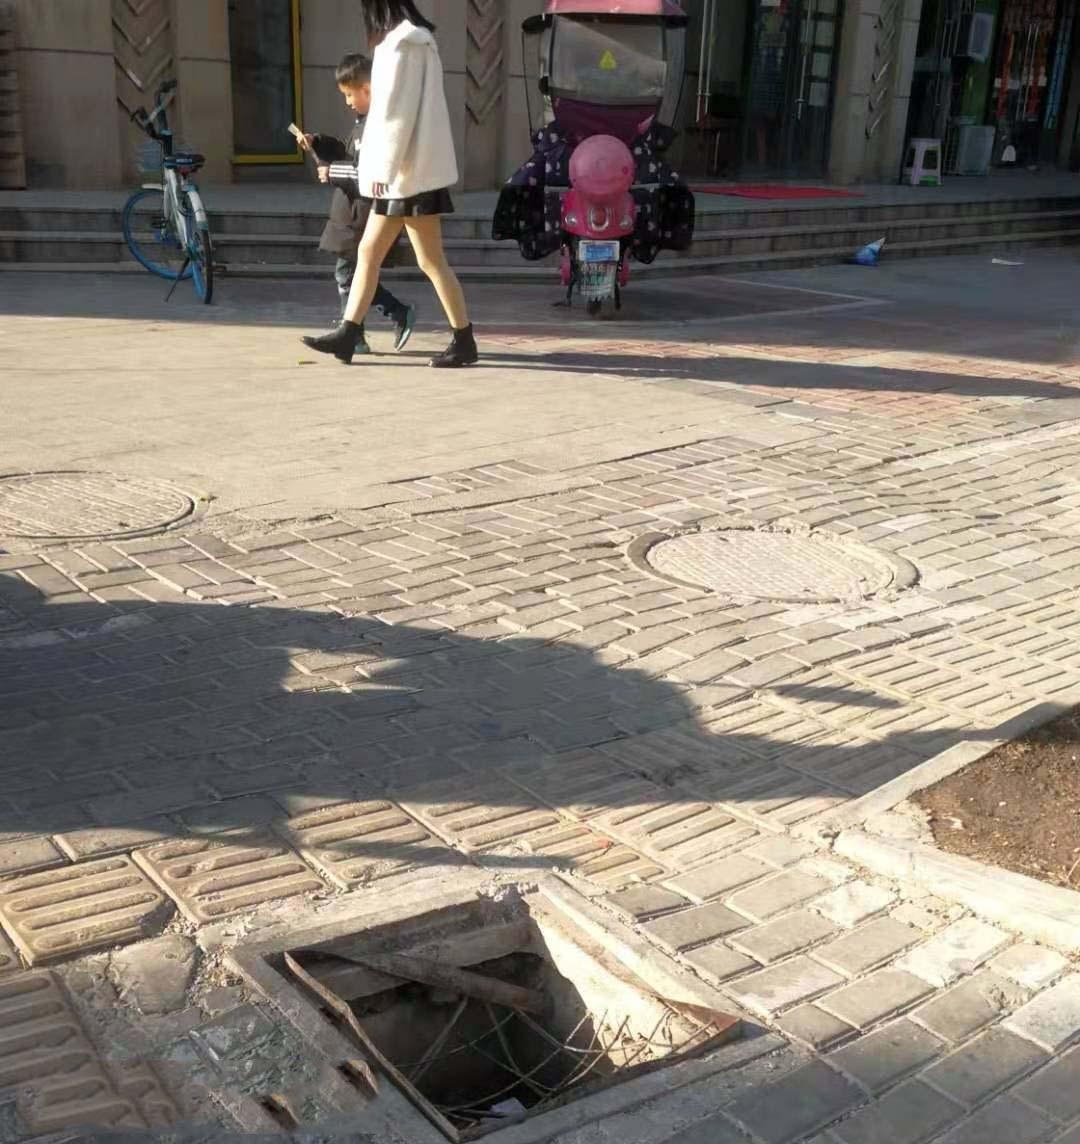wellcover: (257, 871, 750, 1144), (651, 507, 937, 624), (0, 444, 228, 547)
